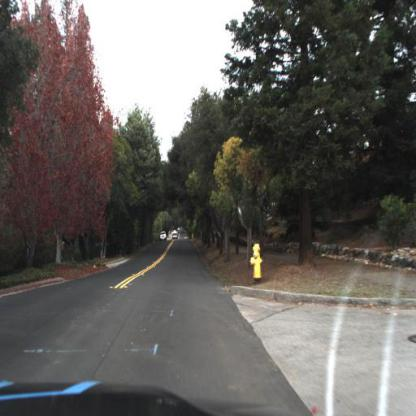car: (158, 229, 169, 245), (172, 226, 182, 242)
